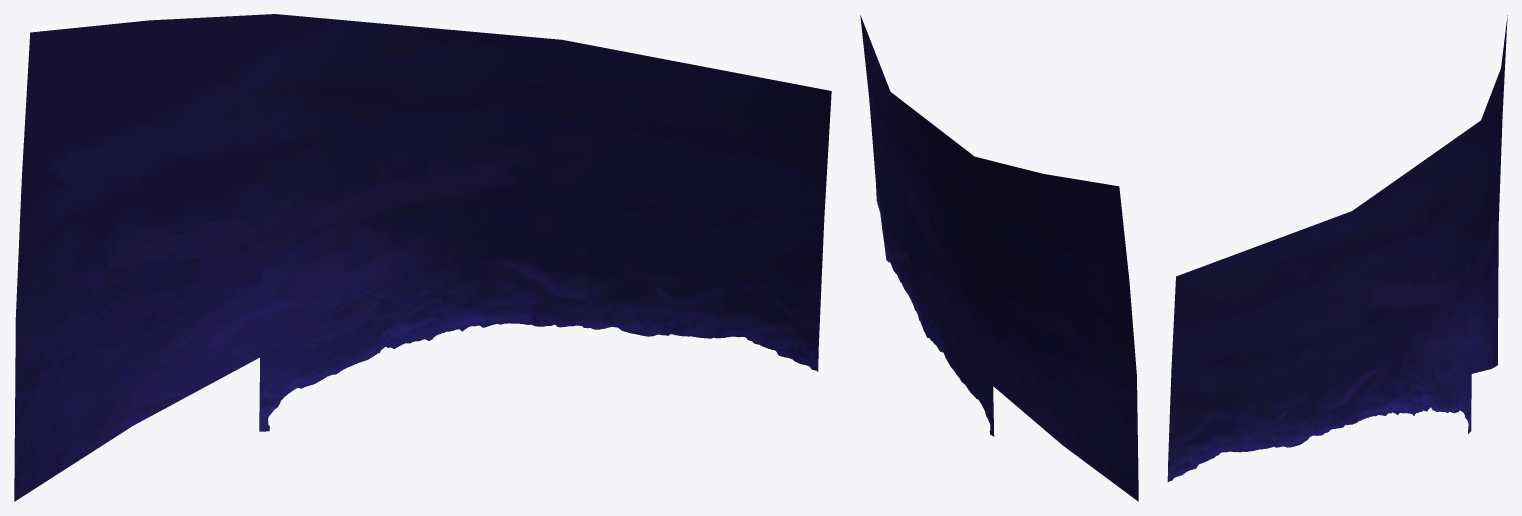
The model's file is SWORDLIGHT20_PS-AREA05-RANGE02_02.fbx.
3 views of the same model, side by side, from view 1: azimuth 30°, elevation 25°; view 2: azimuth 150°, elevation 25°; view 3: azimuth 270°, elevation 25° (orthographic). The views are drawn at different scales.
Visible parts, largest first — view 1: SWORDLIGHT20_PS-AREA05-RANGE02_02; view 2: SWORDLIGHT20_PS-AREA05-RANGE02_02; view 3: SWORDLIGHT20_PS-AREA05-RANGE02_02.
Part boxes in pixels (left/top/right/bottom): SWORDLIGHT20_PS-AREA05-RANGE02_02: left=14, top=14, right=831, bottom=501; SWORDLIGHT20_PS-AREA05-RANGE02_02: left=860, top=15, right=1138, bottom=501; SWORDLIGHT20_PS-AREA05-RANGE02_02: left=1167, top=15, right=1507, bottom=482.
Size of the model in its own units: 398517 by 285965 by 245073.
5 materials, 5 textured.
